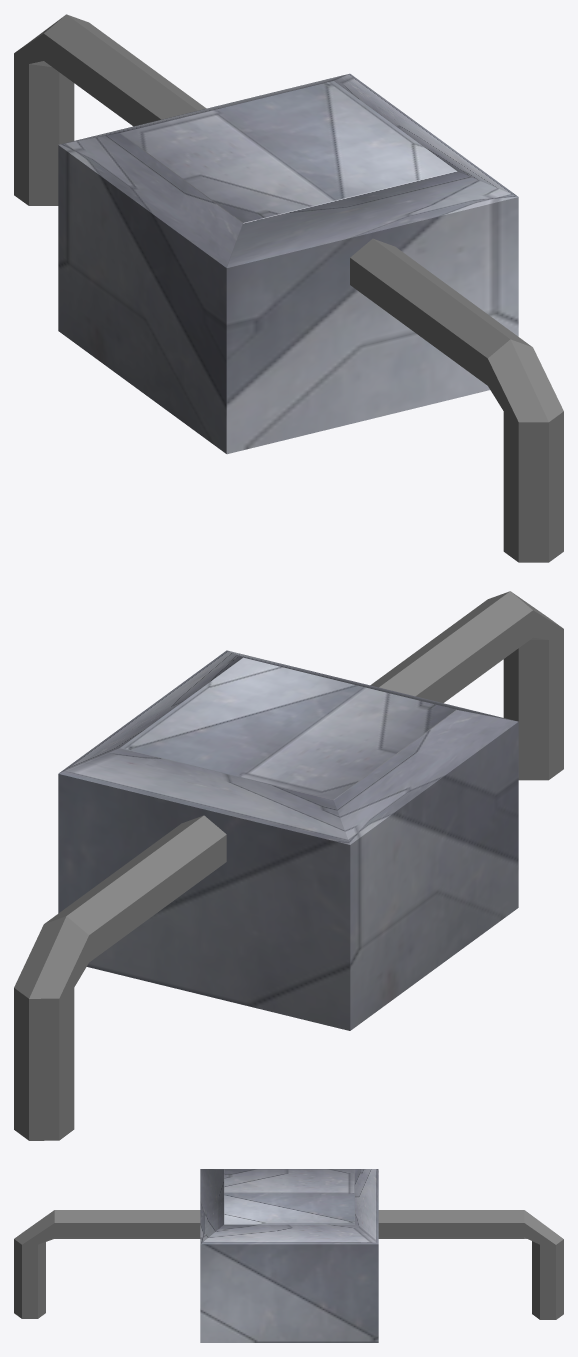
The model's file is wall-box.fbx.
The picture shows the model from 3 angles, top to bottom: view 1: azimuth 30°, elevation 25°; view 2: azimuth 150°, elevation 25°; view 3: azimuth 270°, elevation 25°; orthographic projection. The views are drawn at different scales.
Visible parts, largest first — view 1: apparat; view 2: apparat; view 3: apparat.
Boxes of the visible parts, bbox=[...] form: apparat: bbox=[14, 14, 563, 562]; apparat: bbox=[14, 591, 563, 1140]; apparat: bbox=[14, 1169, 563, 1342].
Size of the model in its own units: 617 by 200 by 145.
